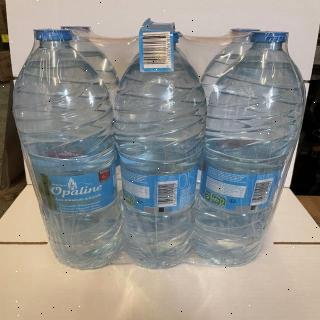Plastic-bottle: (12, 26, 128, 275), (103, 19, 205, 269), (202, 18, 301, 274)
